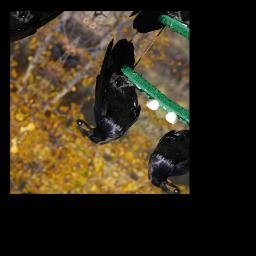Crow: (55, 31, 175, 156)
